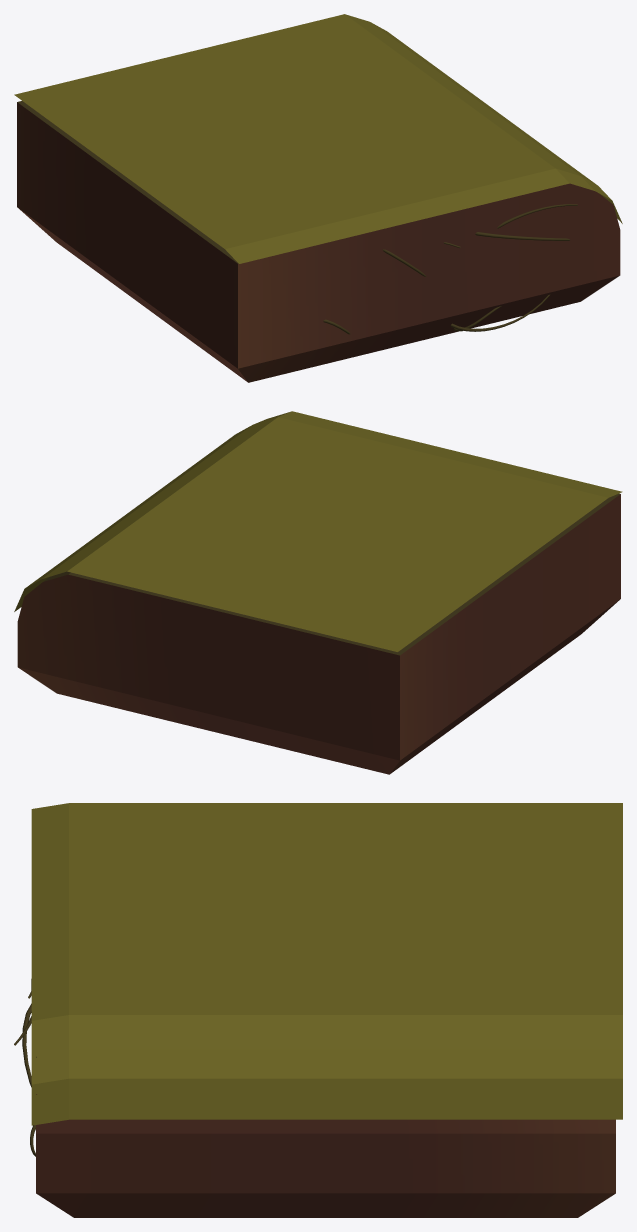
Rendered from zone 2 platform1 1.fbx.
The picture shows the model from 3 angles, top to bottom: view 1: azimuth 30°, elevation 25°; view 2: azimuth 150°, elevation 25°; view 3: azimuth 270°, elevation 25°; orthographic projection. The views are drawn at different scales.
Visible parts, largest first — view 1: Cube.016; view 2: Cube.016; view 3: Cube.016.
Part boxes in pixels (x1=…): Cube.016: x1=14, y1=14, x2=622, y2=382; Cube.016: x1=14, y1=411, x2=622, y2=774; Cube.016: x1=14, y1=803, x2=622, y2=1217.
Bounding box in the file's own units: 1055 × 371 × 1105.
